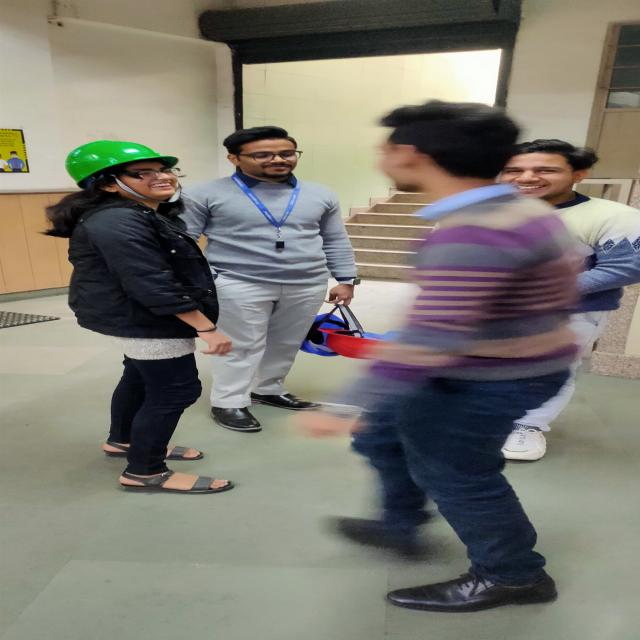no jacket: (58, 139, 224, 496)
unsafe: (358, 97, 588, 610), (180, 124, 365, 435), (521, 135, 640, 463)
